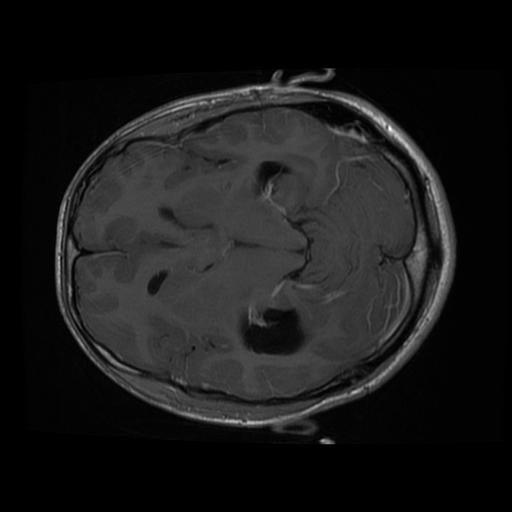glioma: (240, 307, 303, 359)
